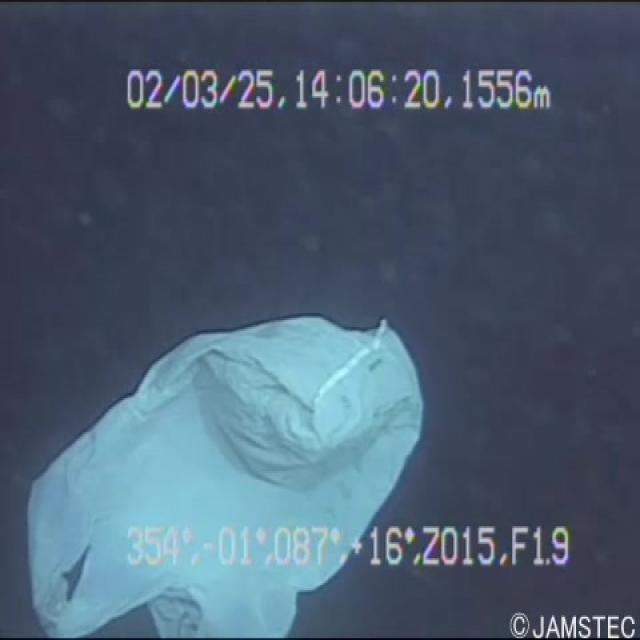plastic: (27, 274, 425, 638)
